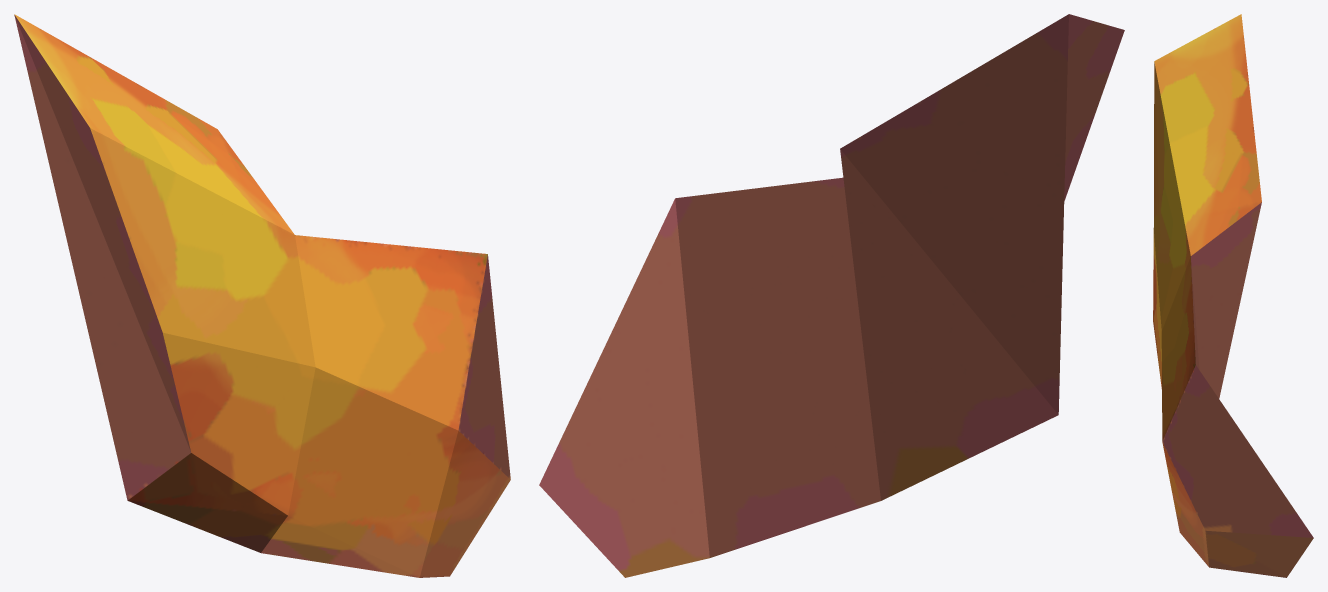
File: Grips3Broken.fbx
3 renders of one model, left to right at view 1: azimuth 30°, elevation 25°; view 2: azimuth 150°, elevation 25°; view 3: azimuth 270°, elevation 25°, orthographic. The views are drawn at different scales.
Parts seen in each view (by area): view 1: Grips3Broken; view 2: Grips3Broken; view 3: Grips3Broken.
Part boxes in pixels (x1,y1,x2,y2): Grips3Broken: (14, 14, 510, 577); Grips3Broken: (539, 14, 1124, 577); Grips3Broken: (1153, 14, 1313, 577).
Size of the model in its own units: 0.8079 by 1.85 by 2.38.
1 material, 1 textured.
